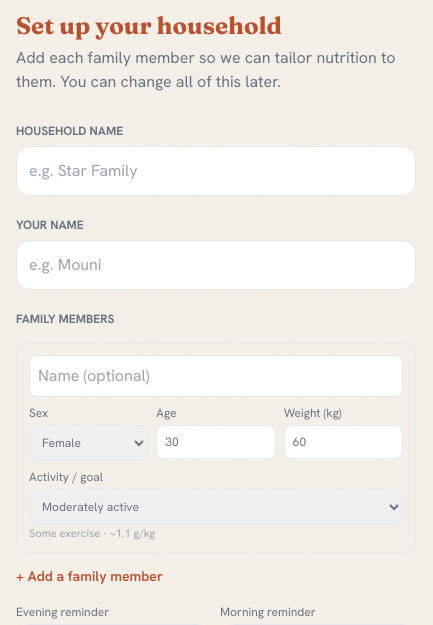
Onboarding › adds a second member row when "Add a family member" is clicked
The width and height of the screenshot is (433, 625).
Click the button "+ Add a family member" at (89, 576), box [16,566,163,586]
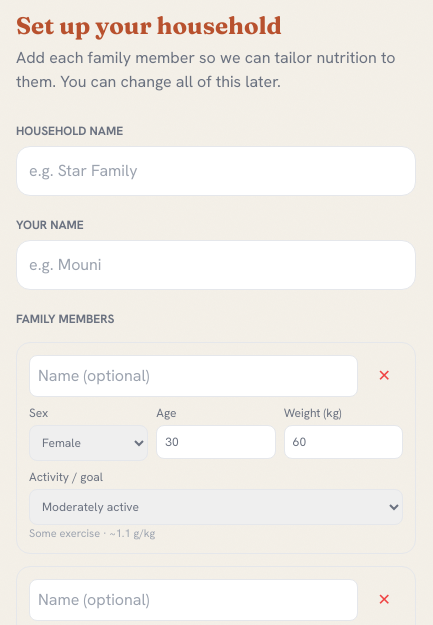
Expected: the field named "Member 1 name" is shown, [29,355,358,397]
Expected: the field named "Member 2 name" is shown, [29,579,358,621]
